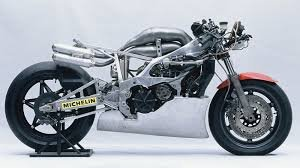motor: (21, 25, 289, 158)
